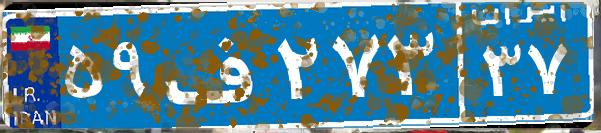2: (273, 28, 330, 110)
3: (385, 28, 445, 110), (475, 38, 525, 113)
5: (57, 26, 110, 107)
7: (330, 28, 385, 110), (525, 38, 570, 115)
9: (110, 28, 158, 105)
ف: (158, 15, 273, 115)
